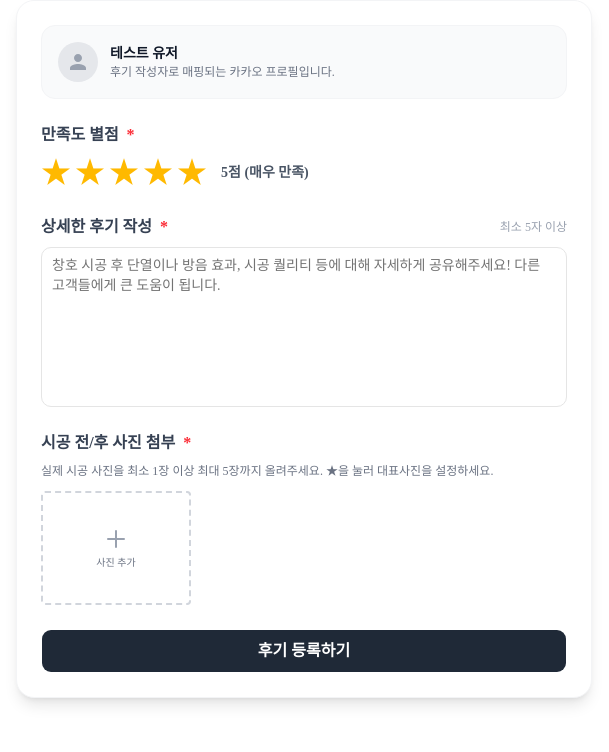
ReviewForm › content가 5자 미만이면 에러 메시지를 표시한다
The image size is (609, 752).
Type "짧음" into the text box labelled "상세한 후기 작성 *" at (304, 327), box 41,247 -> 567,407
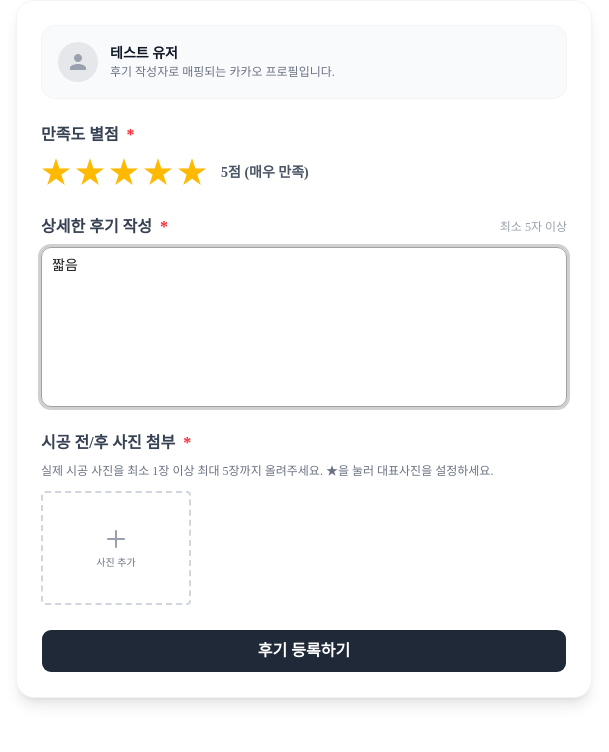
Click the button "후기 등록하기" at (304, 651), box 41,629 -> 567,673
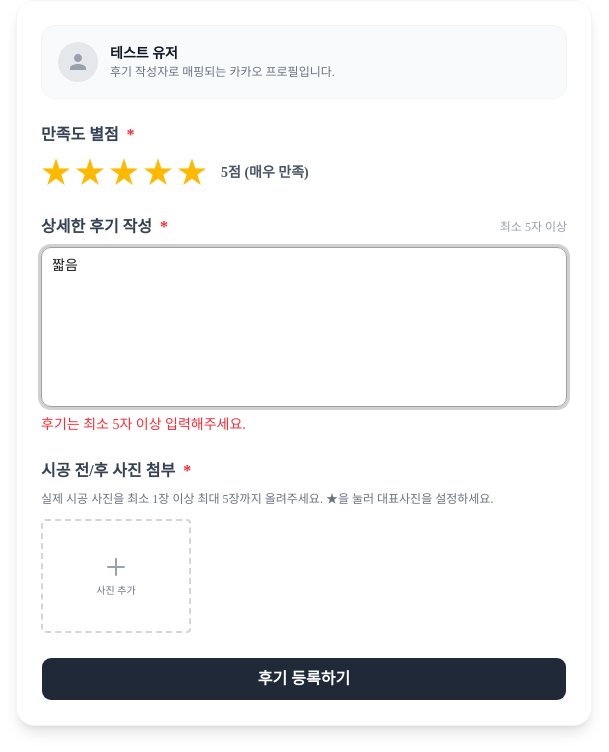
Check: the text "후기는 최소 5자 이상 입력해주세요." is shown, box 41,417 -> 246,432
